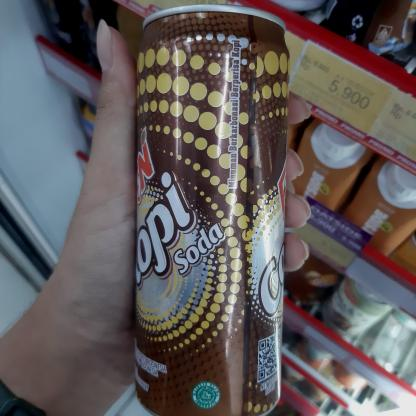alumunium_can: (118, 0, 288, 415)
